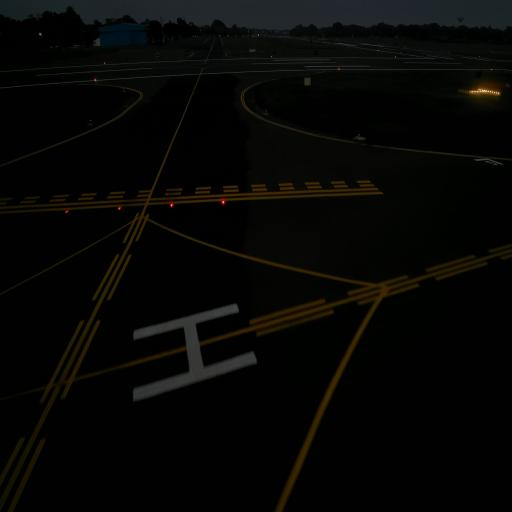on: (218, 192, 228, 212), (114, 198, 124, 214), (62, 205, 70, 221), (168, 198, 176, 212)
